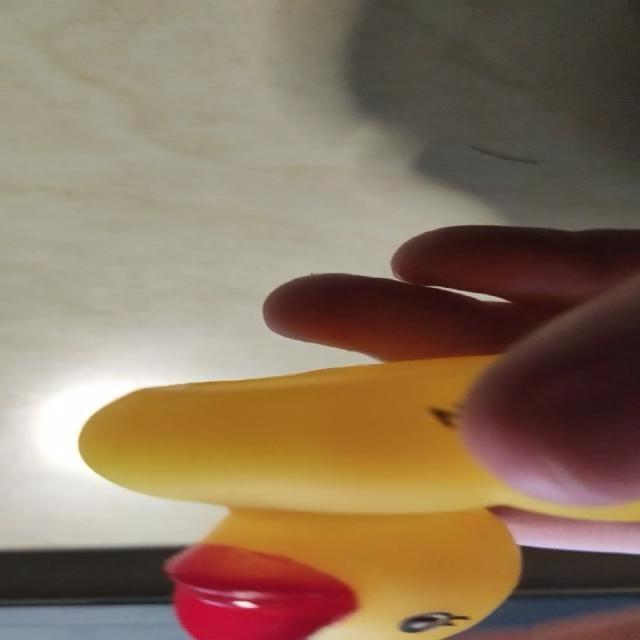rubber-duck: (78, 355, 638, 638)
